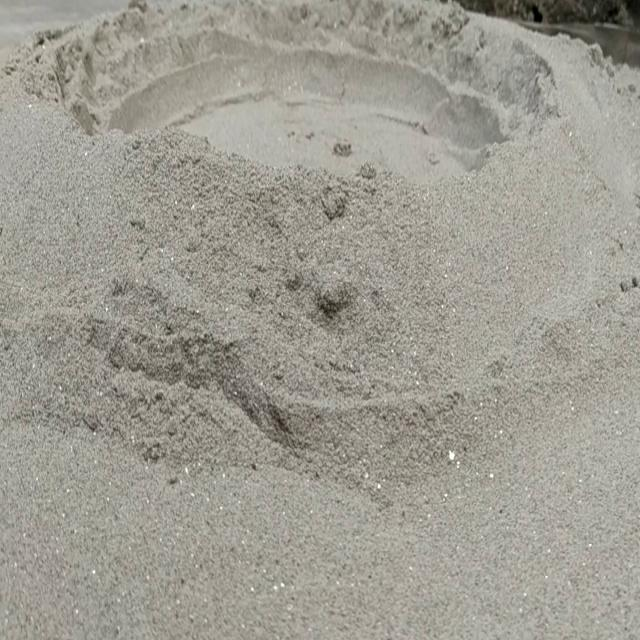C40: (0, 0, 552, 182)
